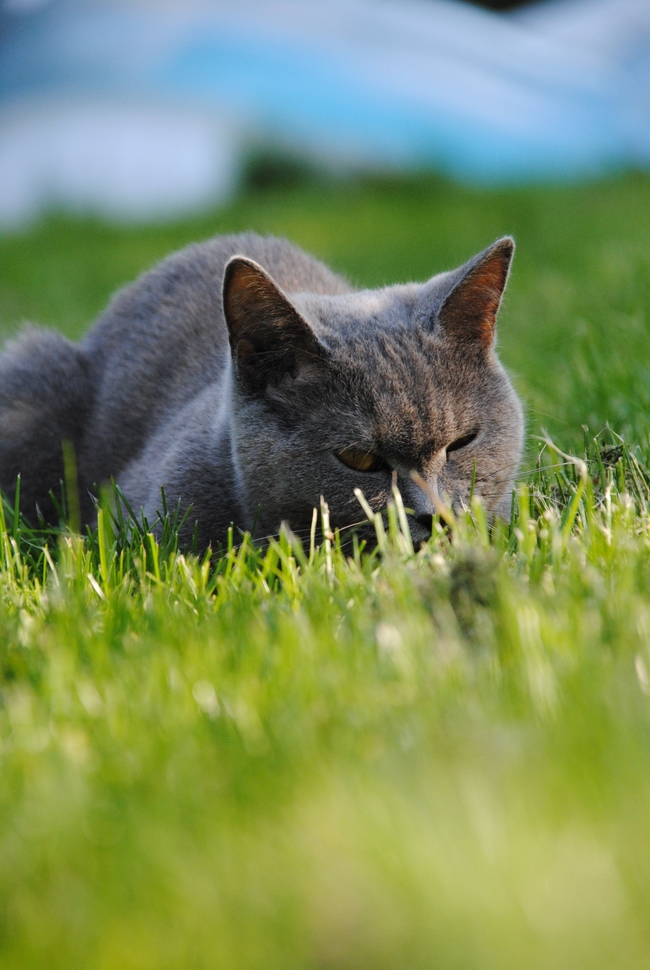cat: (4, 221, 526, 555)
